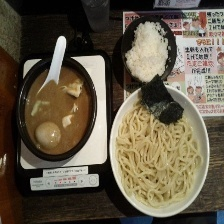rice: (122, 21, 176, 79)
